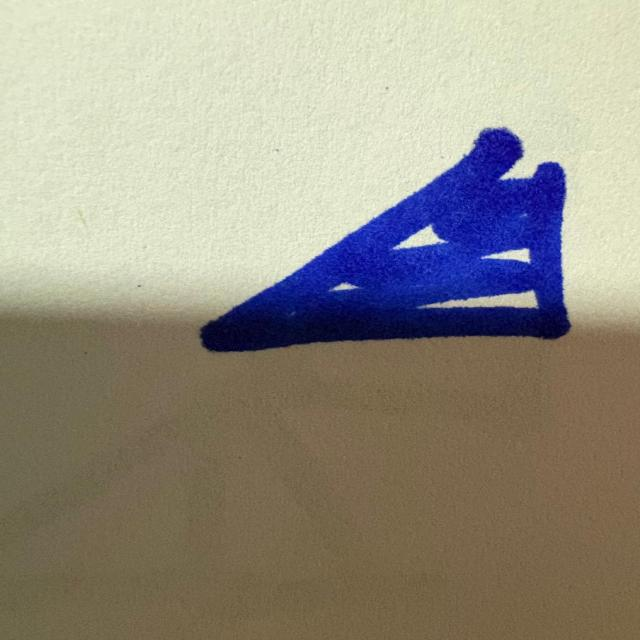Triangle: (195, 120, 578, 359)
